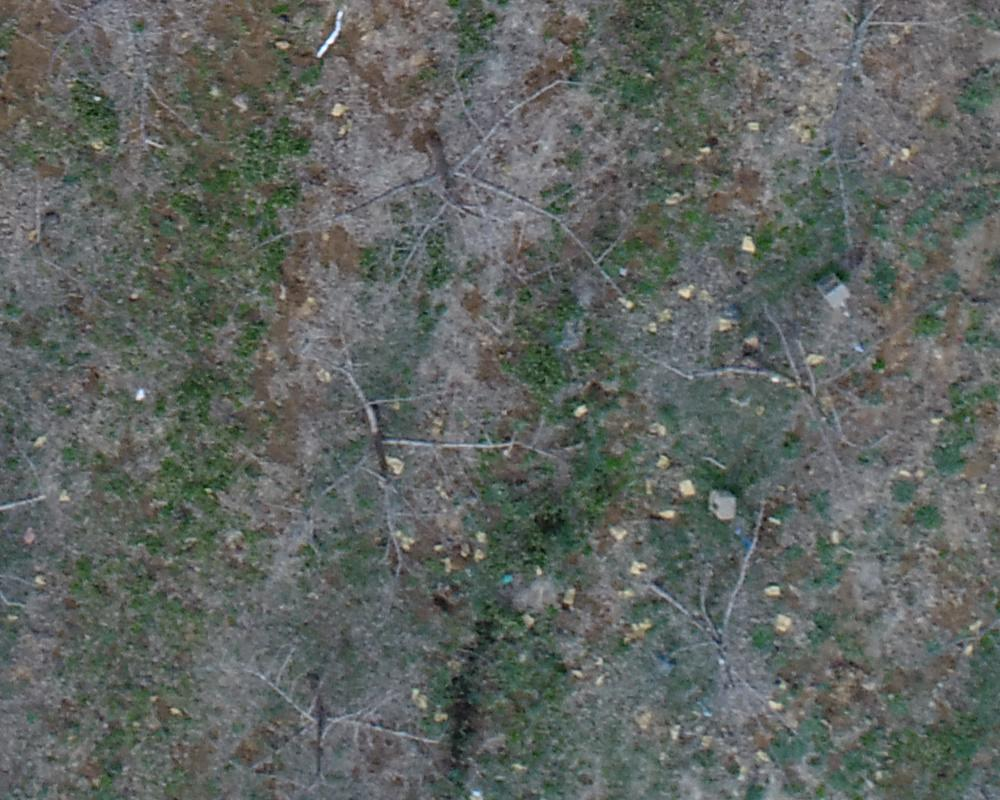apple: (278, 64, 621, 308), (295, 343, 547, 569), (780, 10, 990, 233), (642, 300, 913, 468), (638, 500, 803, 732), (231, 653, 452, 790), (25, 10, 232, 129)
